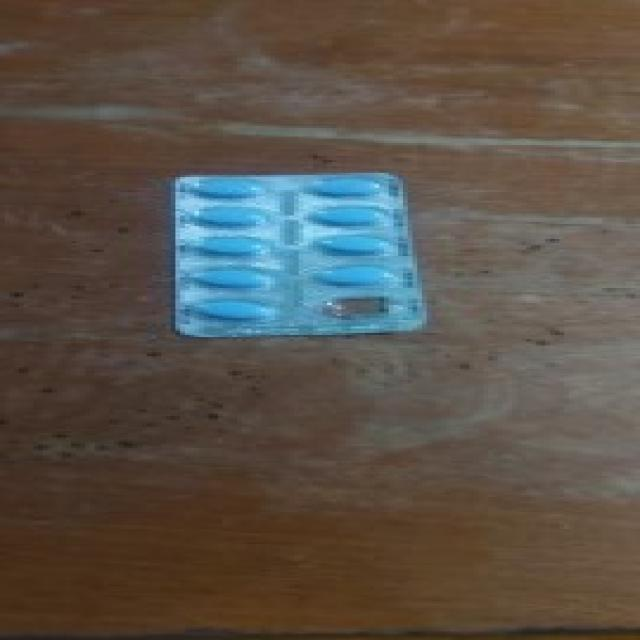Cacat: (167, 174, 436, 338)
Kemasan: (311, 290, 410, 328)
